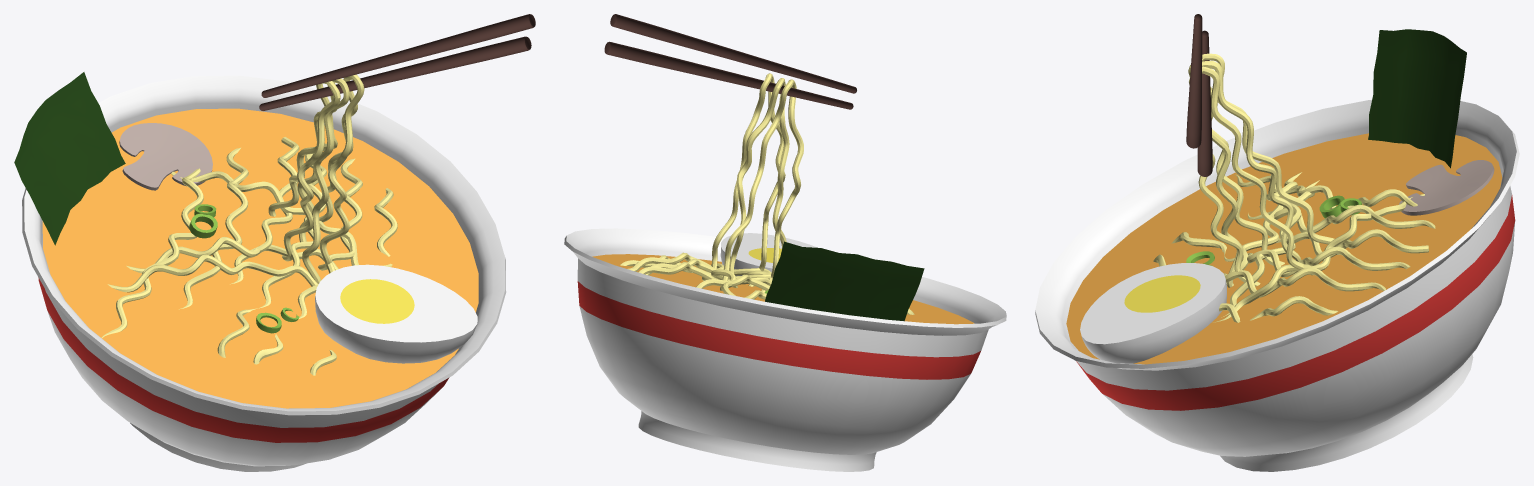
The model's file is steaming_bowl.fbx.
3 views of the same model, side by side, from view 1: azimuth 30°, elevation 25°; view 2: azimuth 150°, elevation 25°; view 3: azimuth 270°, elevation 25° (orthographic). The views are drawn at different scales.
Visible parts, largest first — view 1: Circle.2246; view 2: Circle.2246; view 3: Circle.2246.
Boxes of the visible parts, x1,y1,x2,y2 form: Circle.2246: (14, 14, 535, 471); Circle.2246: (564, 14, 1006, 471); Circle.2246: (1035, 14, 1519, 471).
Size of the model in its own units: 209 by 183 by 190.
Materials: 1 (1 with a texture image).
